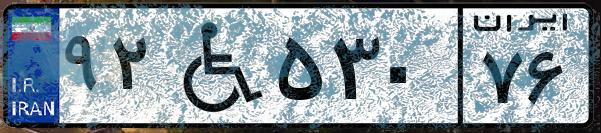0: (385, 28, 445, 110)
2: (110, 28, 158, 98)
3: (330, 28, 385, 110)
5: (270, 28, 330, 110)
6: (525, 38, 570, 115)
7: (475, 38, 525, 113)
9: (57, 26, 110, 100)
ژ (معلولین و جانبازان): (158, 12, 270, 120)
